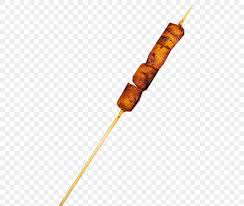Sate ayam: (56, 2, 197, 206)
